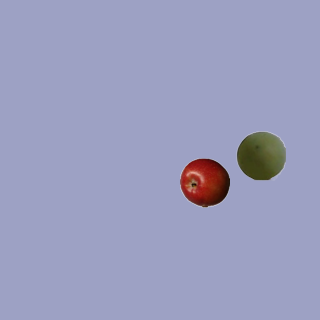Apple Braeburn: (179, 157, 229, 207)
Grape White 4: (235, 130, 285, 180)
